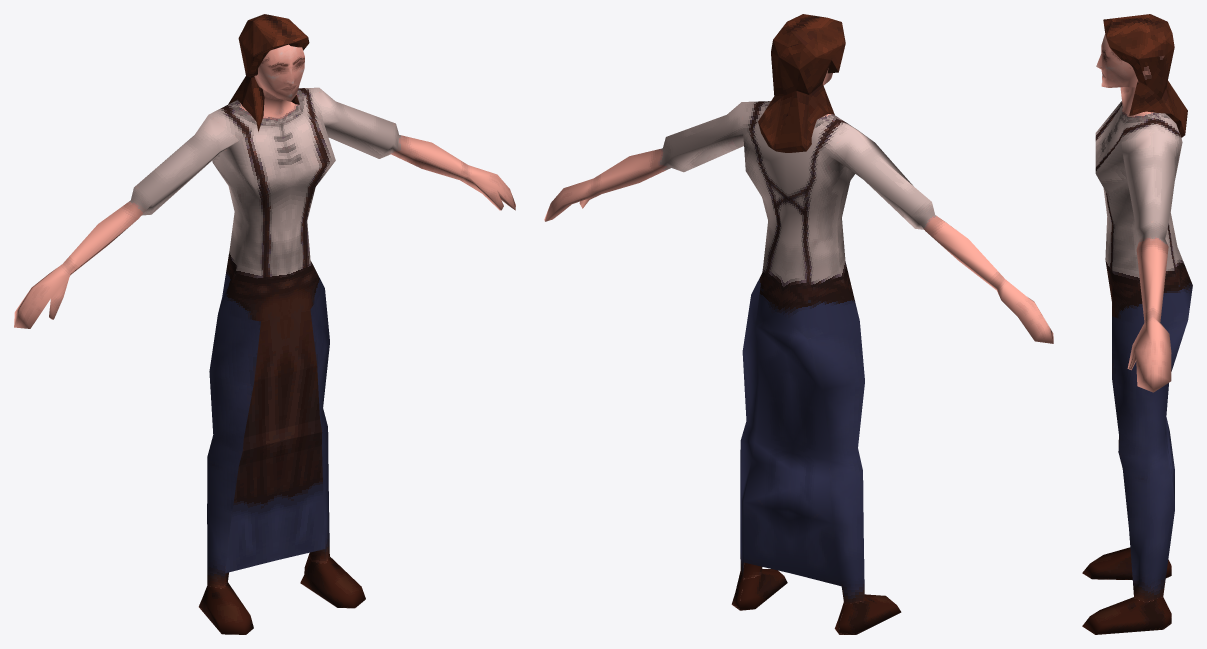
Rendered from npc_maid.glb.
3 renders of one model, left to right at view 1: azimuth 30°, elevation 25°; view 2: azimuth 150°, elevation 25°; view 3: azimuth 270°, elevation 25°, orthographic.
Parts seen in each view (by area): view 1: npc_maid; view 2: npc_maid; view 3: npc_maid.
Part boxes in pixels (x1,y1,x2,y2): npc_maid: [14, 14, 515, 634]; npc_maid: [544, 14, 1053, 634]; npc_maid: [1082, 14, 1192, 634].
Bounding box in the file's own units: 2.15 × 2.37 × 0.4105.
1 material, 1 textured.
